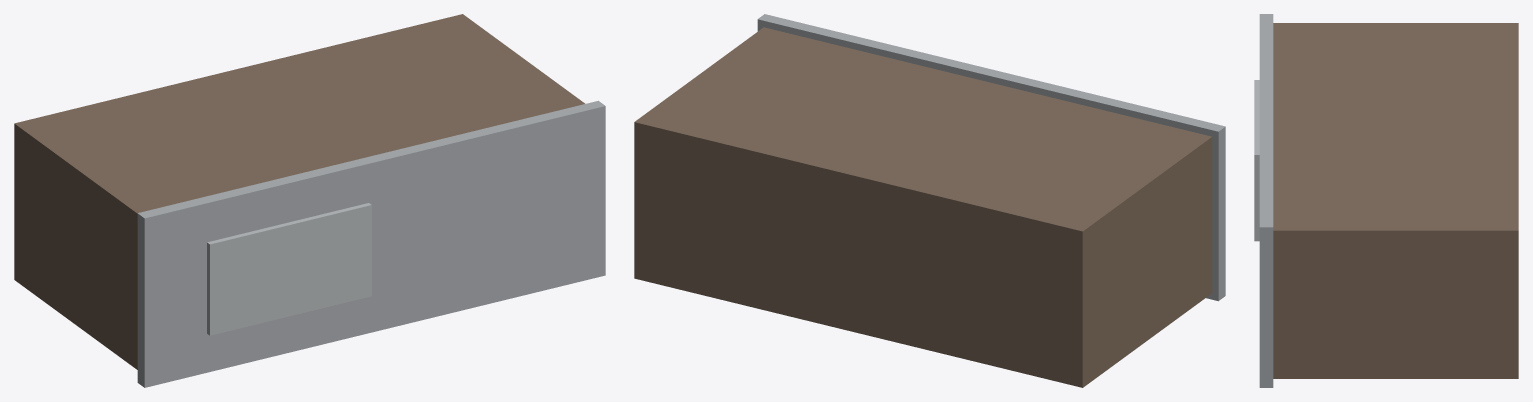
The model's file is kitchen_counter.glb.
3 renders of one model, left to right at view 1: azimuth 30°, elevation 25°; view 2: azimuth 150°, elevation 25°; view 3: azimuth 270°, elevation 25°, orthographic. The views are drawn at different scales.
Visible parts, largest first — view 1: world; view 2: world; view 3: world.
Part boxes in pixels (x1,y1,x2,y2): world: (14,14,605,387); world: (634,14,1225,387); world: (1254,14,1518,387).
Bounding box in the file's own units: 1.85 × 0.65 × 0.97.
